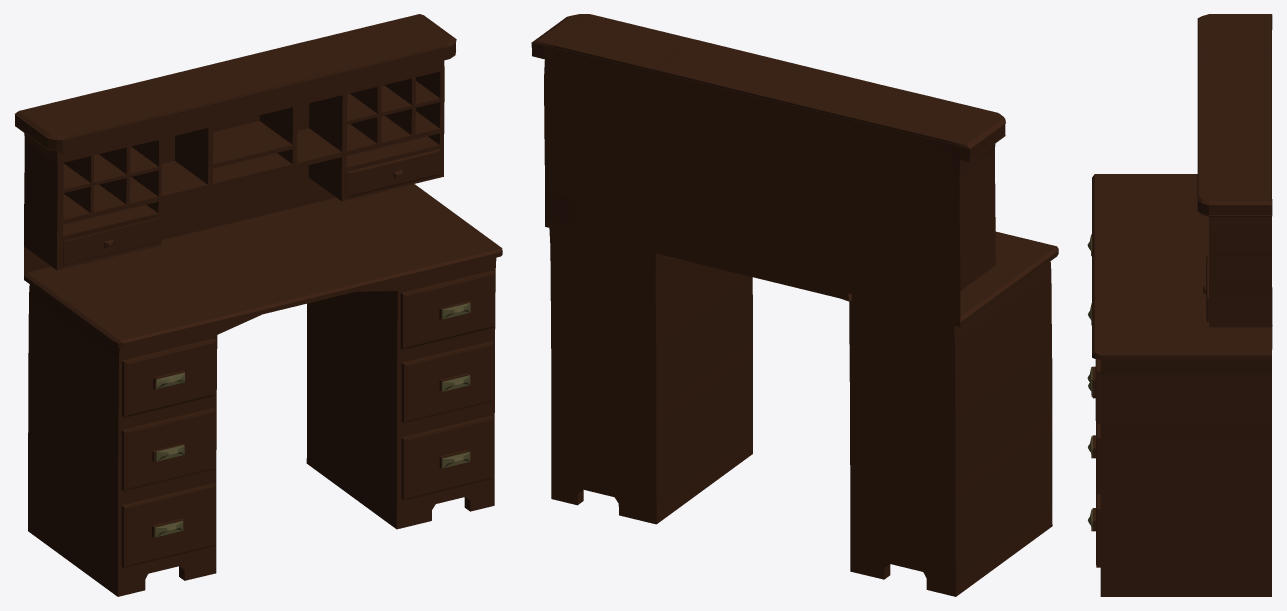
File: desk.fbx
3 renders of one model, left to right at view 1: azimuth 30°, elevation 25°; view 2: azimuth 150°, elevation 25°; view 3: azimuth 270°, elevation 25°, orthographic. The views are drawn at different scales.
Visible parts, largest first — view 1: Desk, Drawer, Drawer 2, Mini drawer; view 2: Desk; view 3: Desk, Drawer 2.
Boxes of the visible parts, bbox=[...] form: Desk: bbox=[15, 14, 502, 596]; Drawer: bbox=[122, 338, 216, 417]; Drawer 2: bbox=[400, 270, 494, 349]; Mini drawer: bbox=[63, 217, 159, 265]; Desk: bbox=[531, 14, 1058, 596]; Desk: bbox=[1092, 14, 1272, 596]; Drawer 2: bbox=[1092, 359, 1100, 424].
Size of the model in its own units: 406 by 402 by 167.
